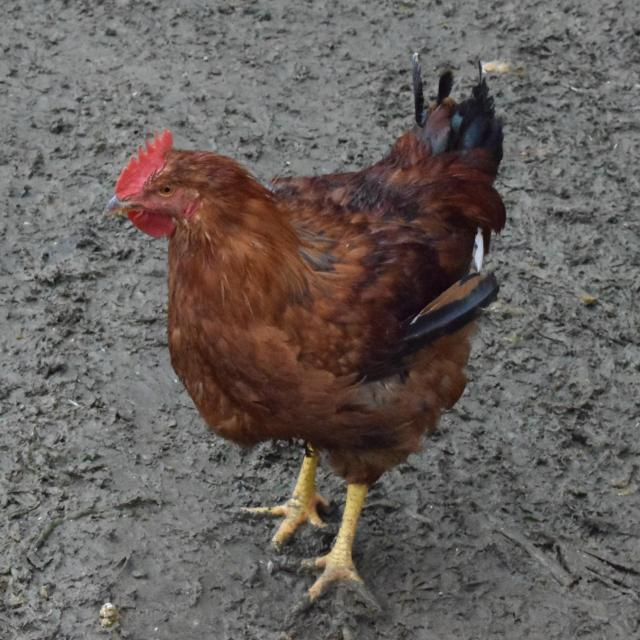cook: (89, 10, 640, 639)
